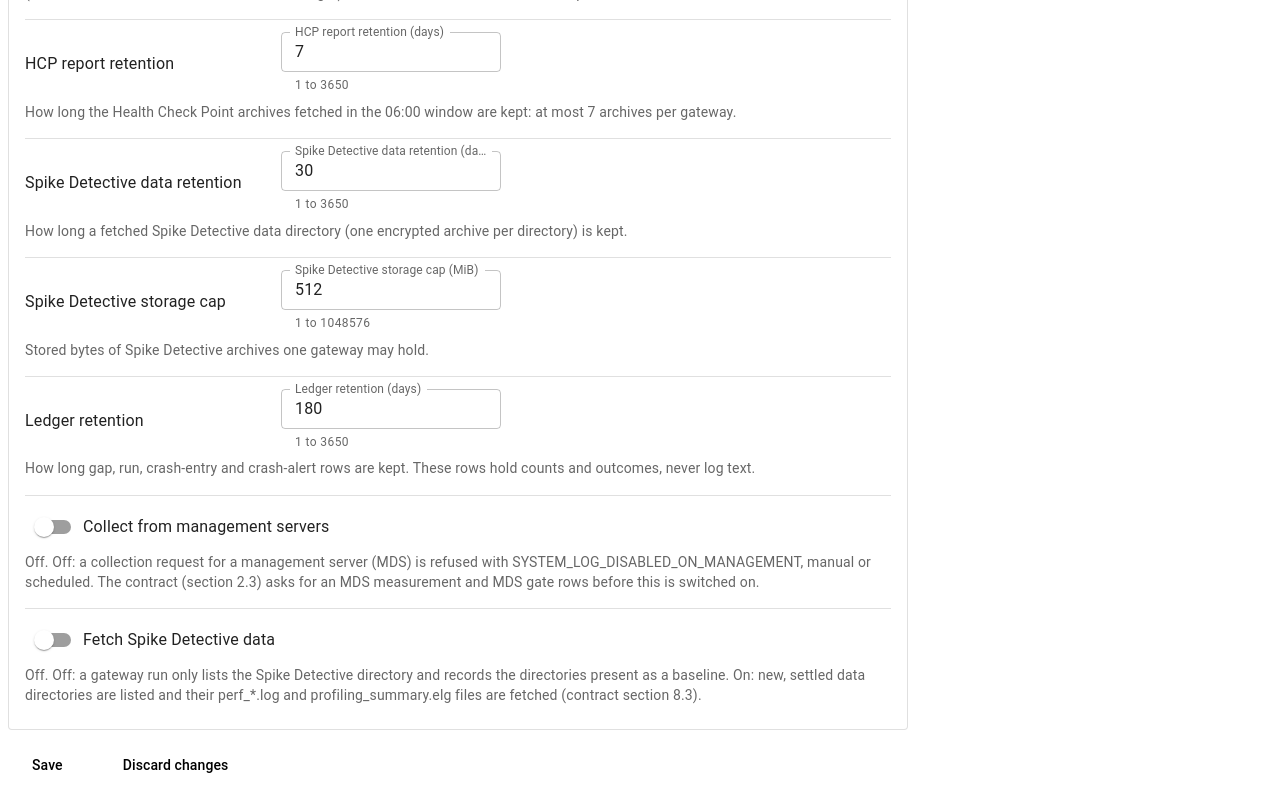
Test case: SystemLogSettingsPanel › cancel in the confirm step saves nothing, and the management-server switch has its own confirm
(page scrolled)
Step 1. Click the checkbox labelled "Collect from management servers" → {"x": 182, "y": 526}, box [34,516,329,536]
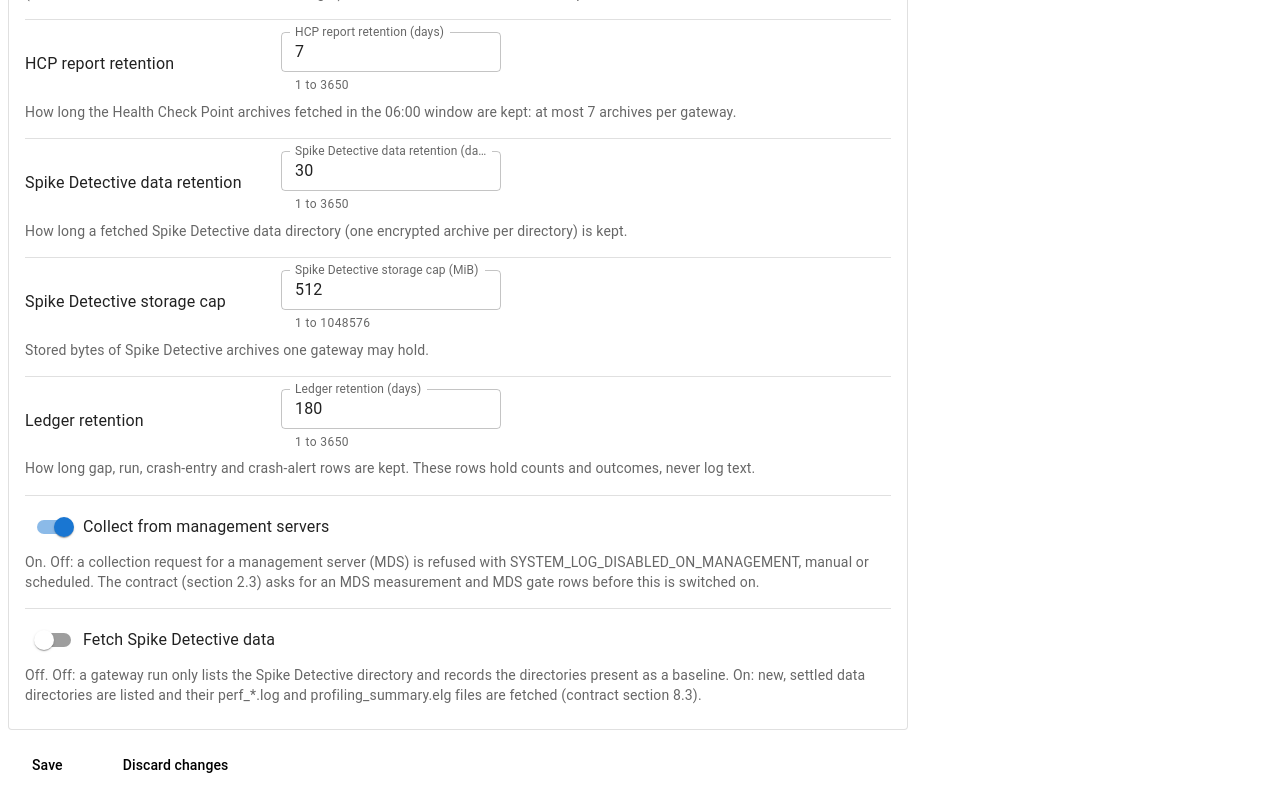
Step 2. Click the button "Save" → {"x": 47, "y": 766}, box [8,746,87,786]
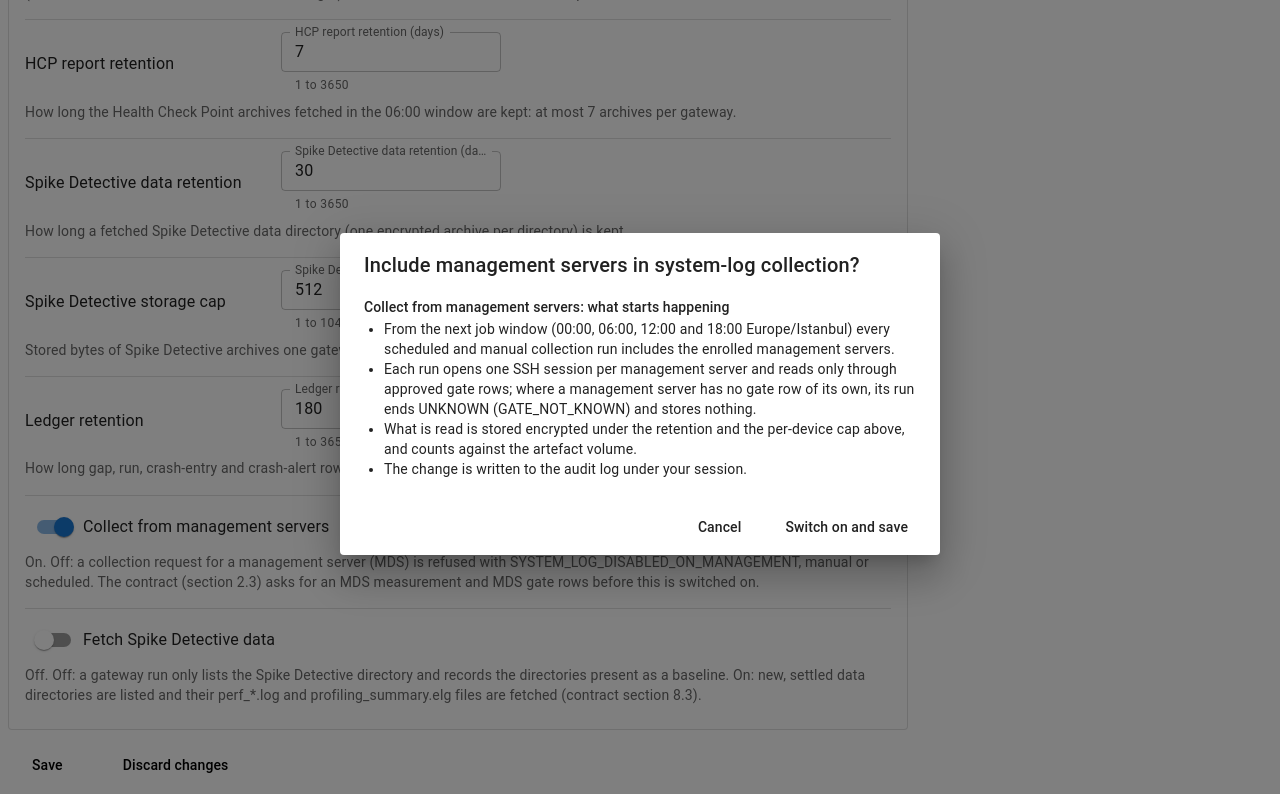
Check: the dialog "Include management servers in system-log collection?" shows "GATE_NOT_KNOWN", box [384,361,914,417]
Step 3. Click the button "Cancel" → {"x": 720, "y": 527}, box [686,507,753,547]
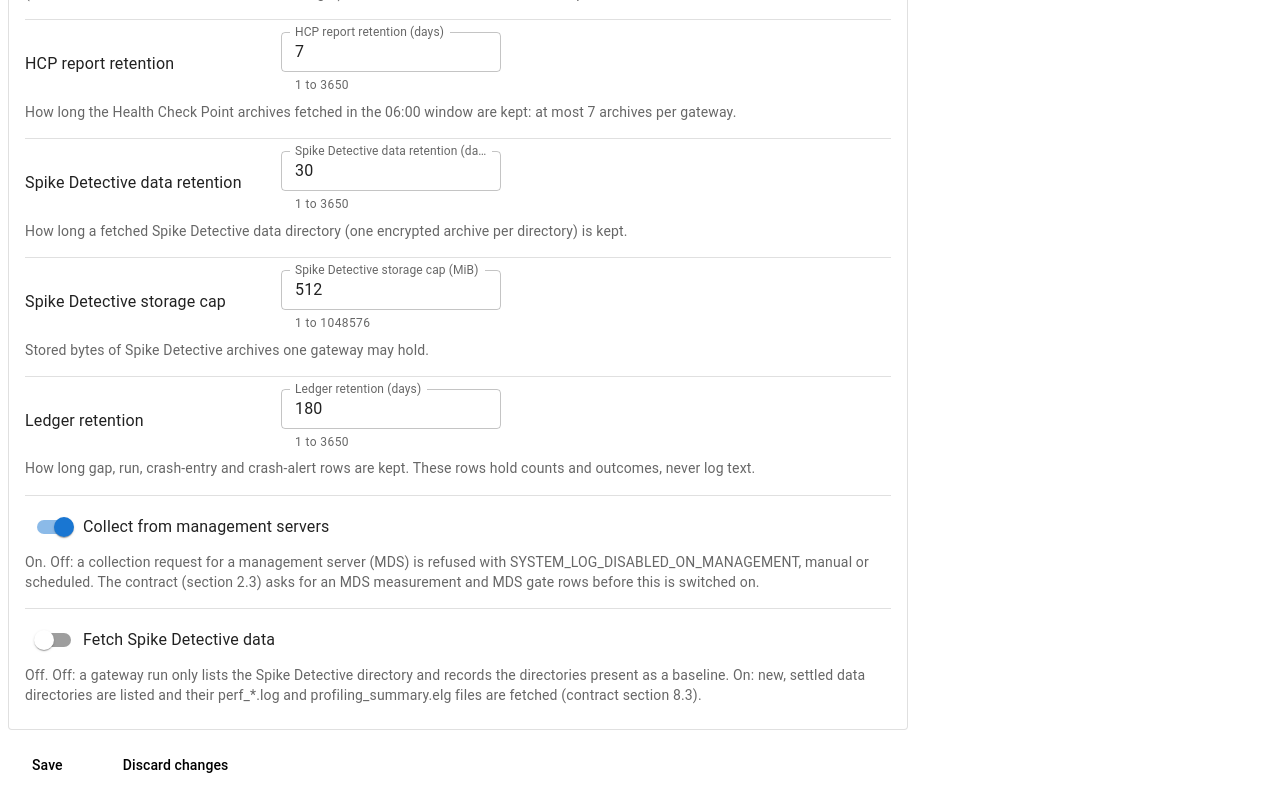
Check: the checkbox labelled "Collect from management servers" is checked, box [37,516,329,536]
Check: the dialog is gone
